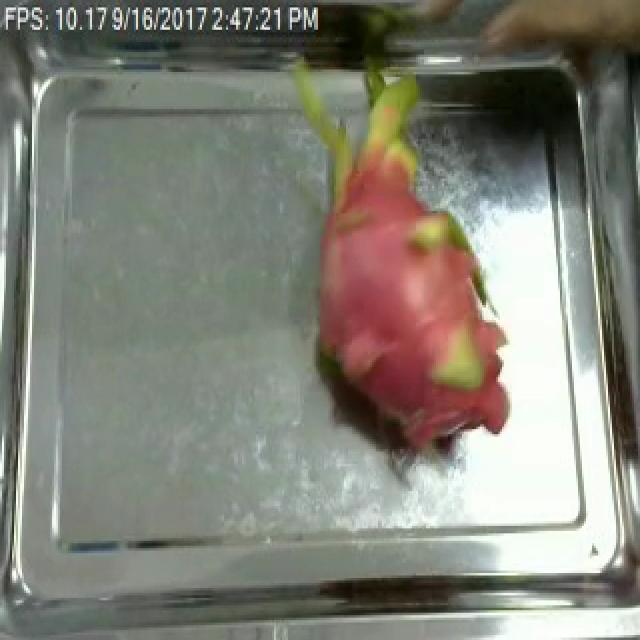fruit: (282, 45, 536, 461)
